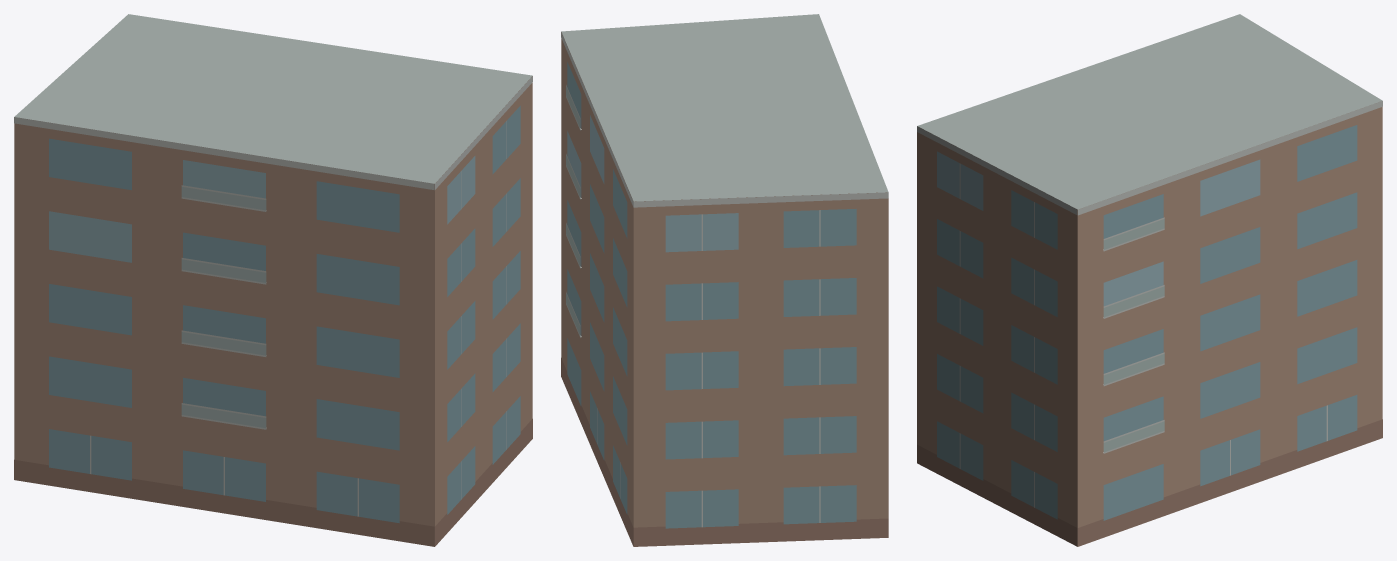
File: survey-upis-32743021.glb
3 renders of one model, left to right at view 1: azimuth 30°, elevation 25°; view 2: azimuth 150°, elevation 25°; view 3: azimuth 270°, elevation 25°, orthographic. The views are drawn at different scales.
Parts seen in each view (by area): view 1: survey-upis-32743021.tmp; view 2: survey-upis-32743021.tmp; view 3: survey-upis-32743021.tmp.
Boxes of the visible parts, <box> form: survey-upis-32743021.tmp: <box>14,14,532,546</box>; survey-upis-32743021.tmp: <box>561,14,888,546</box>; survey-upis-32743021.tmp: <box>917,14,1382,546</box>.
Bounding box in the file's own units: 17.11 × 13.75 × 17.21.
